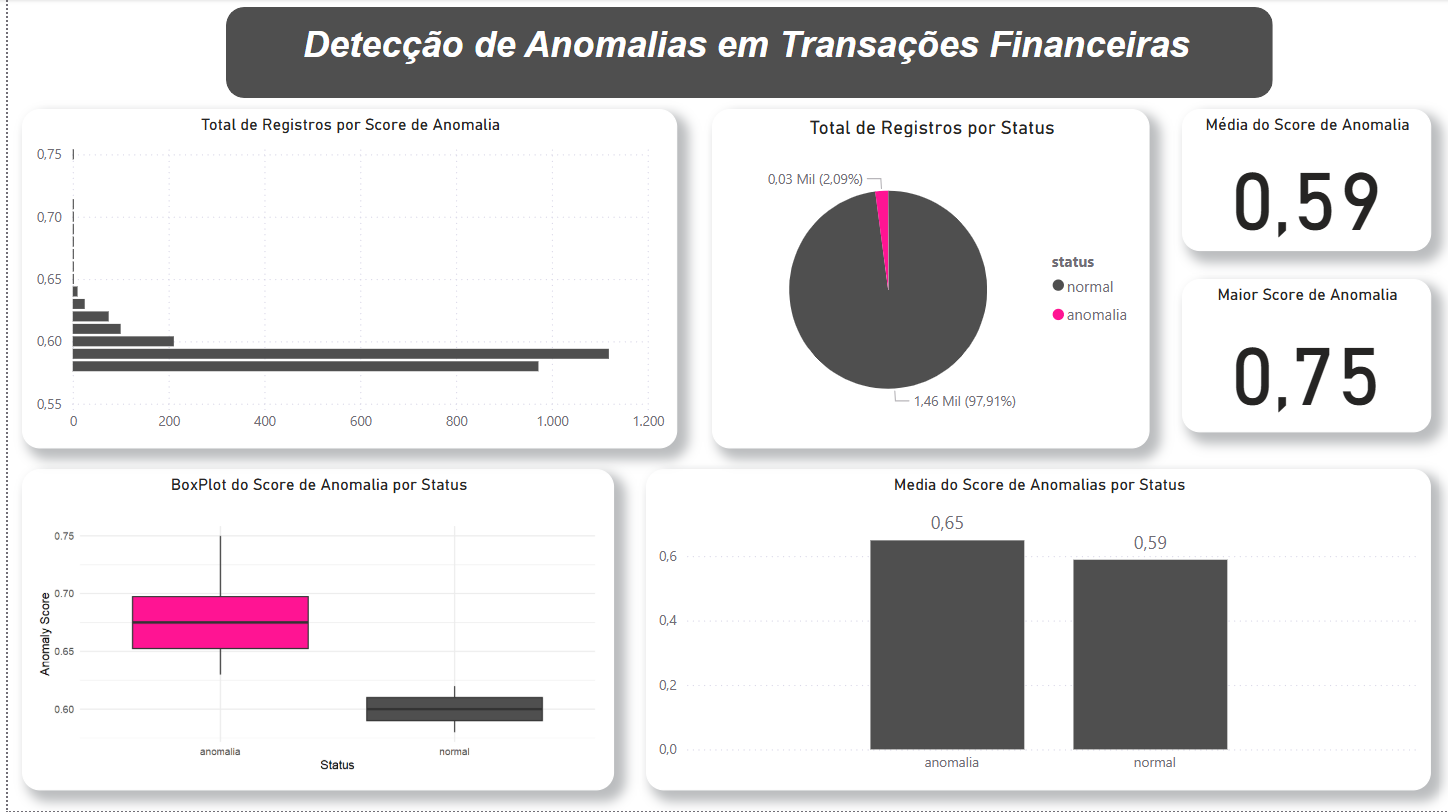

The page's visual inventory and layout, read from the dashboard file:
{"tool":"powerbi","page":{"name":"Página 1","canvas":[1280,720],"ordinal":0},"visuals":[{"type":"shape","box":[193.3,7.1,928.4,80.7],"z":0},{"type":"scriptVisual","title":"BoxPlot do Score de Anomalia por Status","fields":{"Values":["previsoes_novos_dados.anomaly_score","previsoes_novos_dados.status"]},"box":[12,416.5,524.7,285],"z":2000},{"type":"card","title":"Média do Score de Anomalia","fields":{"Values":["Avg(previsoes_novos_dados.anomaly_score)"]},"box":[1041,97.5,220.8,125.9],"z":3000},{"type":"card","title":"Maior Score de Anomalia","fields":{"Values":["Max(previsoes_novos_dados.anomaly_score)"]},"box":[1041,248.3,220.8,135.7],"z":4000},{"type":"columnChart","title":"Media do Score de Anomalias por Status","fields":{"Y":["Avg(previsoes_novos_dados.anomaly_score)"],"Category":["previsoes_novos_dados.status"]},"box":[565.7,416.7,696.1,284.6],"z":5000},{"type":"barChart","title":"Total de Registros por Score de Anomalia","fields":{"Y":["CountNonNull(previsoes_novos_dados.anomaly_score)"],"Category":["previsoes_novos_dados.anomaly_score"]},"box":[12.4,97.5,580.8,301.5],"z":6000},{"type":"textbox","box":[233.2,17.7,851.2,60.3],"z":7000},{"type":"pieChart","title":"Total de Registros por Status","fields":{"Category":["previsoes_novos_dados.status"],"Y":["Sum(previsoes_novos_dados.anomaly_score)"]},"box":[624.2,97.5,388.4,301.5],"z":7001}]}

Visuals, with their boxes in screenshot pixels (x1, y1, x2, y2), scaled from the page's 1280x720 canvas onto the 1448x812 screenshot:
shape: (219,8,1269,99)
"BoxPlot do Score de Anomalia por Status" scriptVisual: (14,470,607,791)
"Média do Score de Anomalia" card: (1178,110,1427,252)
"Maior Score de Anomalia" card: (1178,280,1427,433)
"Media do Score de Anomalias por Status" columnChart: (640,470,1427,791)
"Total de Registros por Score de Anomalia" barChart: (14,110,671,450)
textbox: (264,20,1227,88)
"Total de Registros por Status" pieChart: (706,110,1146,450)
